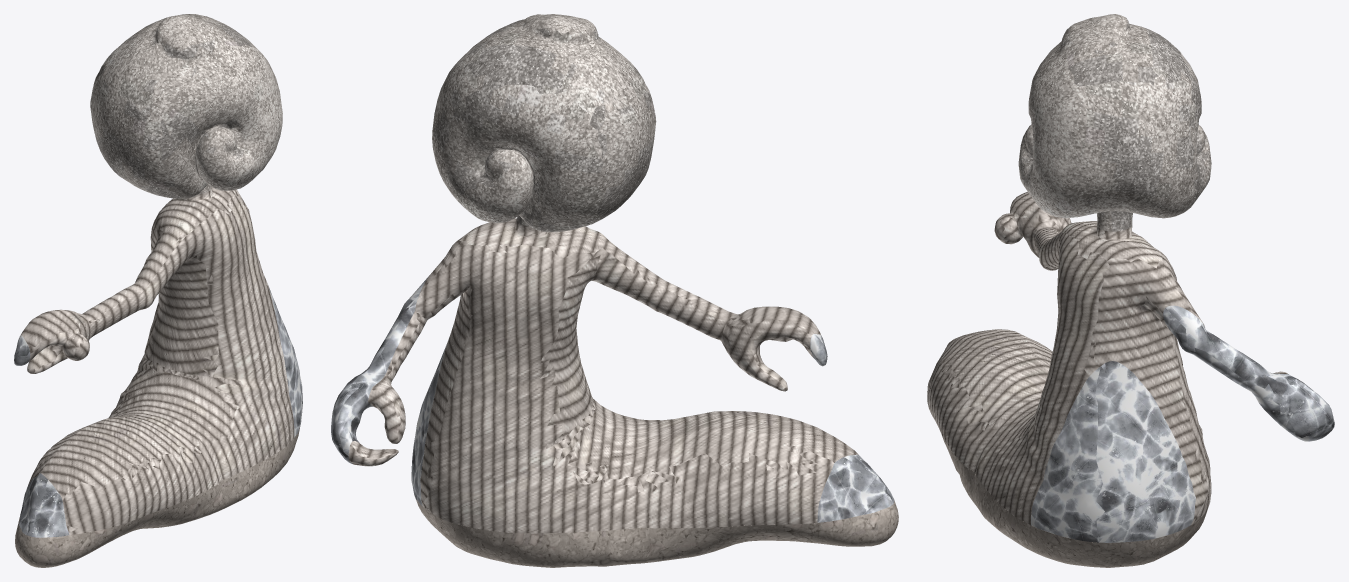
The model's file is 12-seedpod-snailslug--stylized_worm_3d_model.glb.
The picture shows the model from 3 angles, left to right: view 1: azimuth 30°, elevation 25°; view 2: azimuth 150°, elevation 25°; view 3: azimuth 270°, elevation 25°; orthographic projection. The views are drawn at different scales.
Visible parts, largest first — view 1: body_mesh, head_mesh, feet_mesh, arms_mesh; view 2: body_mesh, head_mesh, feet_mesh, arms_mesh; view 3: body_mesh, head_mesh, arms_mesh, feet_mesh.
Boxes of the visible parts, <box> form: body_mesh: <box>20,186,294,534</box>; head_mesh: <box>90,14,282,199</box>; feet_mesh: <box>15,426,300,567</box>; arms_mesh: <box>14,283,302,537</box>; body_mesh: <box>348,218,858,533</box>; head_mesh: <box>432,14,656,232</box>; feet_mesh: <box>414,496,898,567</box>; arms_mesh: <box>331,275,894,522</box>; body_mesh: <box>927,191,1287,524</box>; head_mesh: <box>1018,14,1211,231</box>; arms_mesh: <box>1031,305,1334,542</box>; feet_mesh: <box>927,400,1206,567</box>.
Size of the model in its own units: 2.38 by 3 by 2.2.
Materials: 4 (4 with a texture image).
